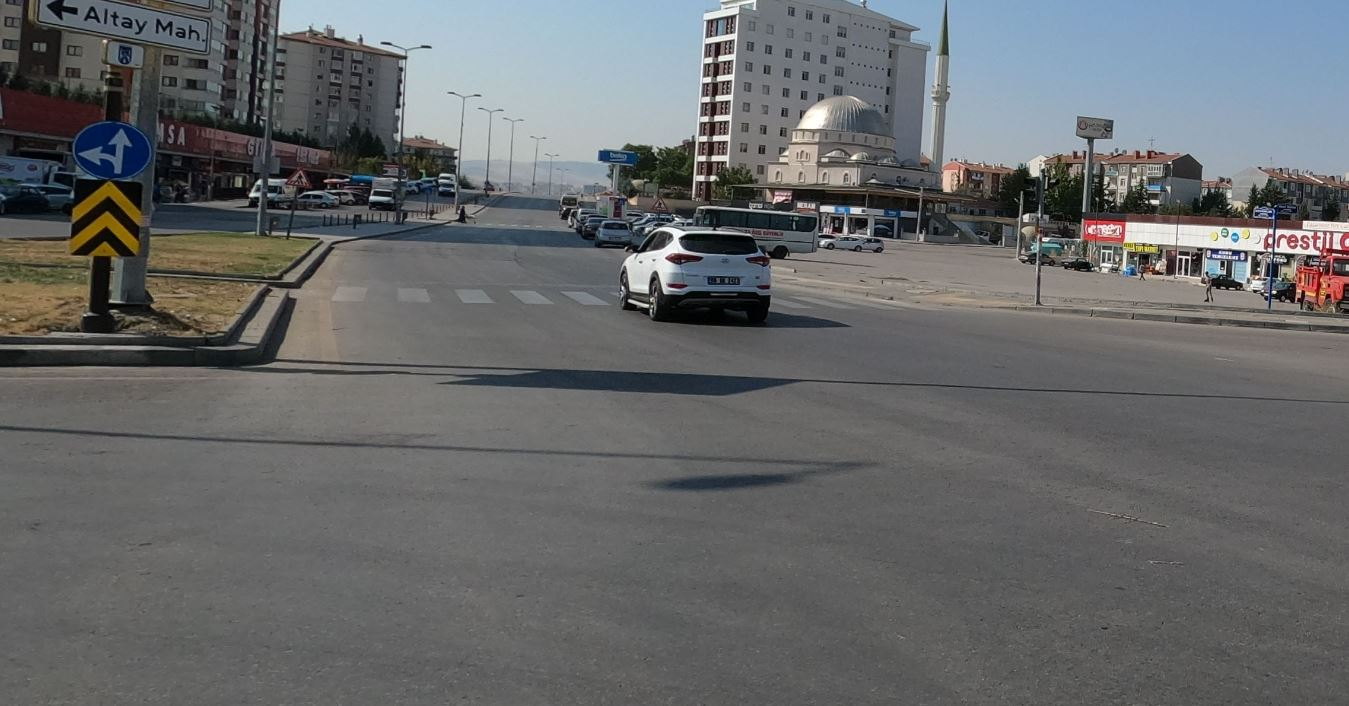ileri ve Sola Mecburi Don: (71, 116, 157, 182)
